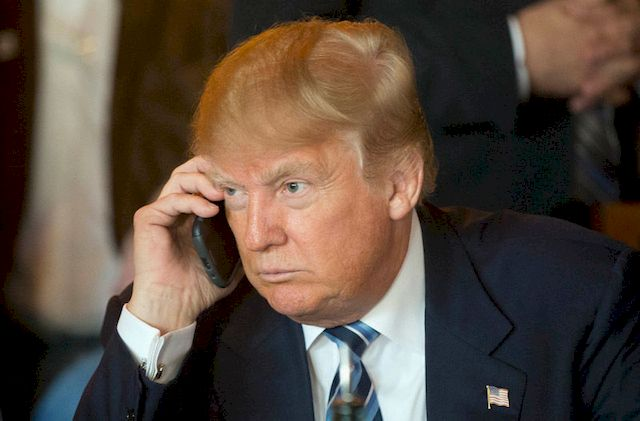phone: (179, 188, 244, 288)
talk: (135, 149, 357, 324)
